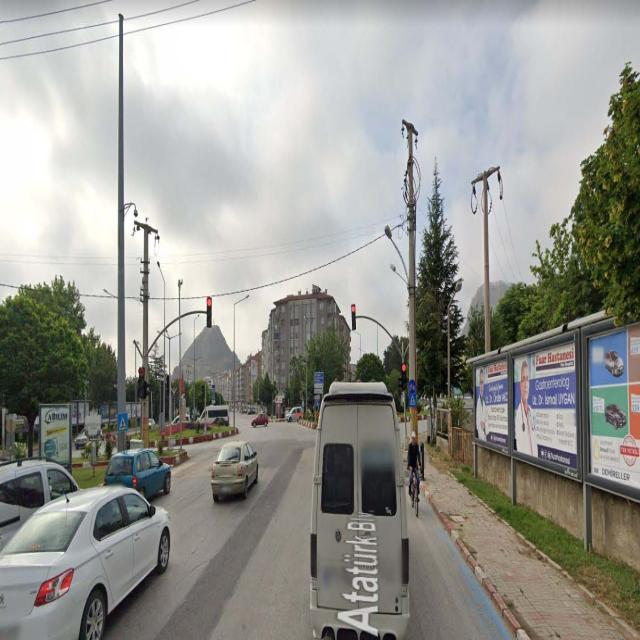kirmizi: (206, 297, 212, 325), (401, 364, 407, 389), (351, 304, 356, 330)
